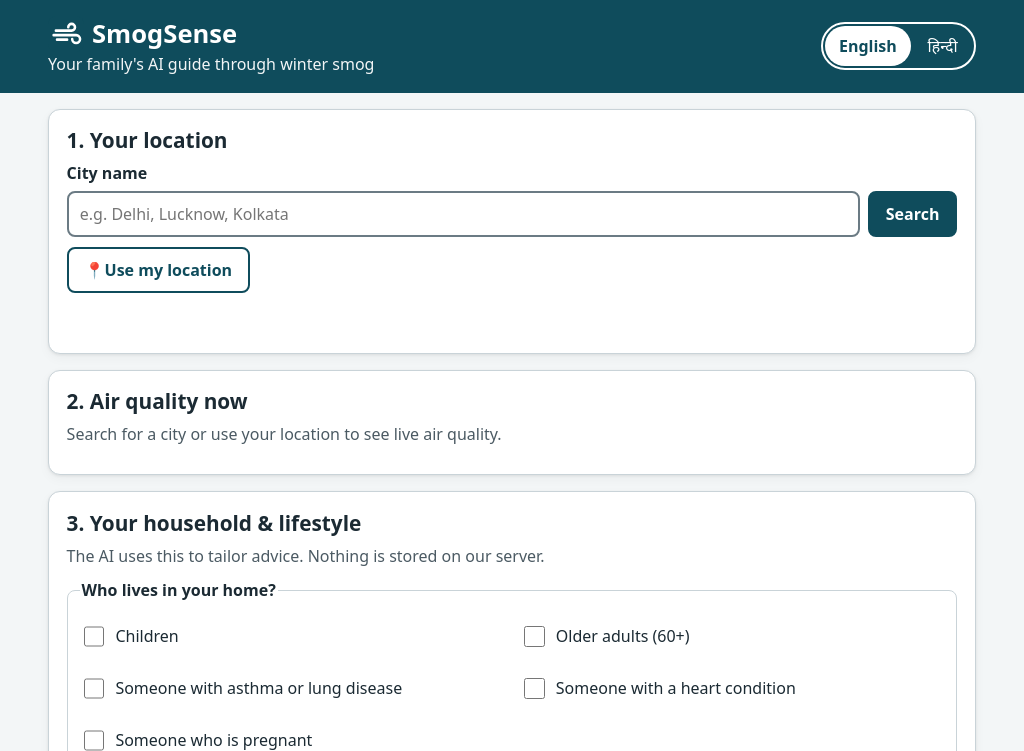
Test: App › shows a clear message when live AQI is unavailable
Step 1. Type "Delhi" into the field labelled "City name" → point(463, 214), box [67,191,860,237]
Then press Enter
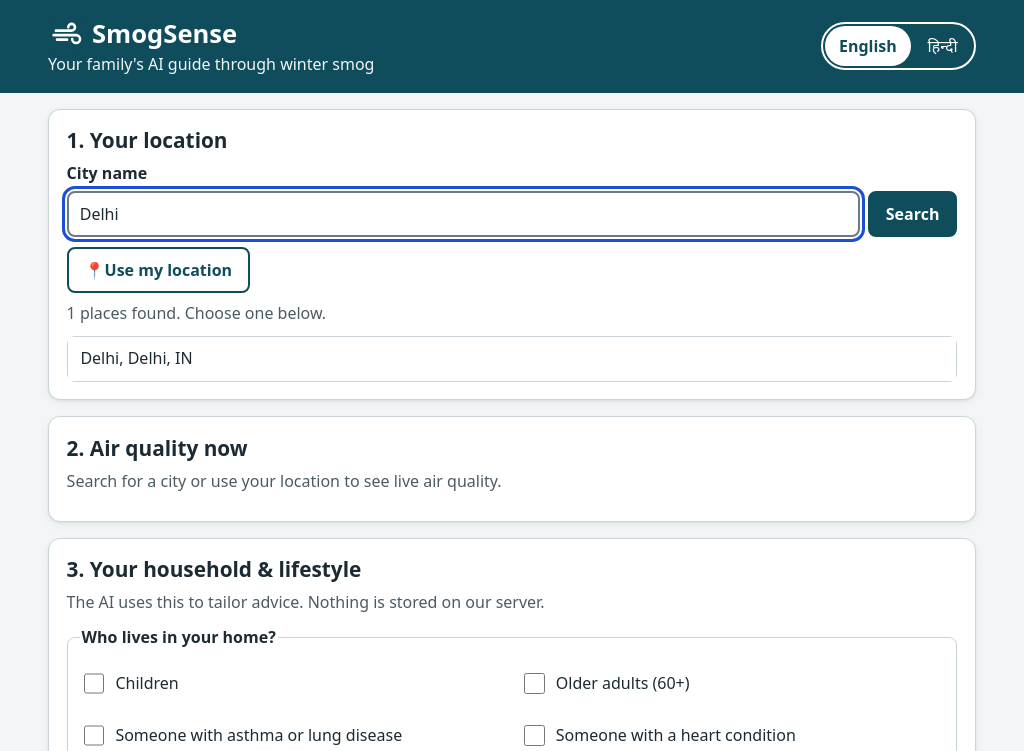
Step 2. Click the button "Delhi, Delhi, IN" → point(136, 358), box [68,337,956,381]
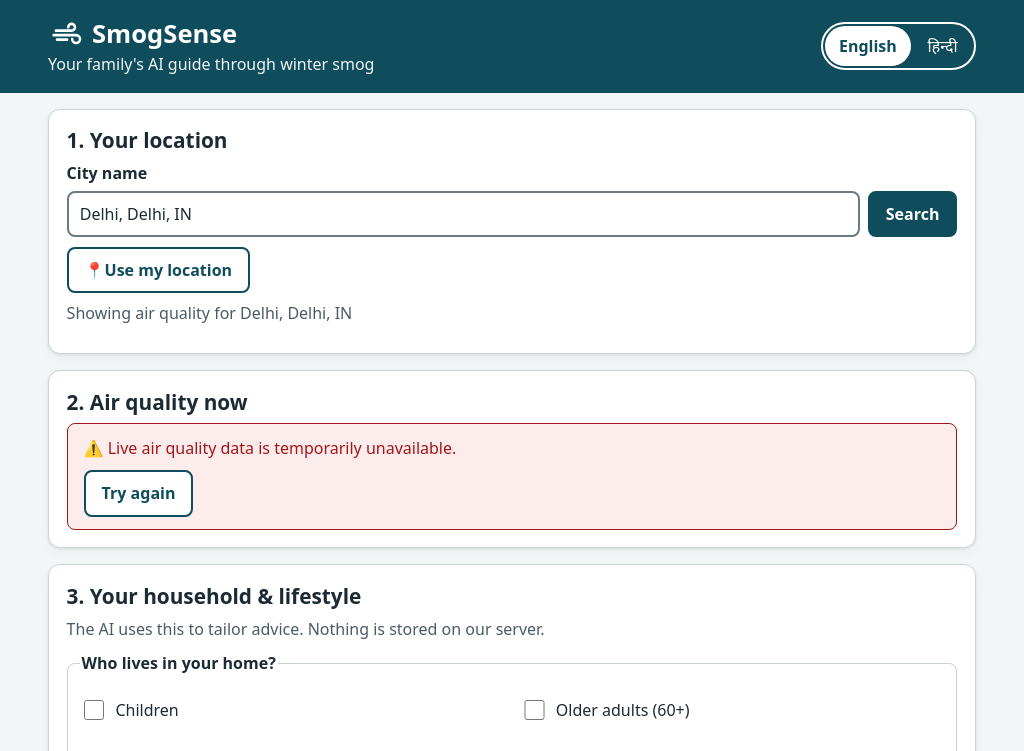
Result: the text "Live air quality data is temporarily unavailable." is shown at [108,437,456,459]
Result: the button "Try again" is shown at [84,470,193,517]
